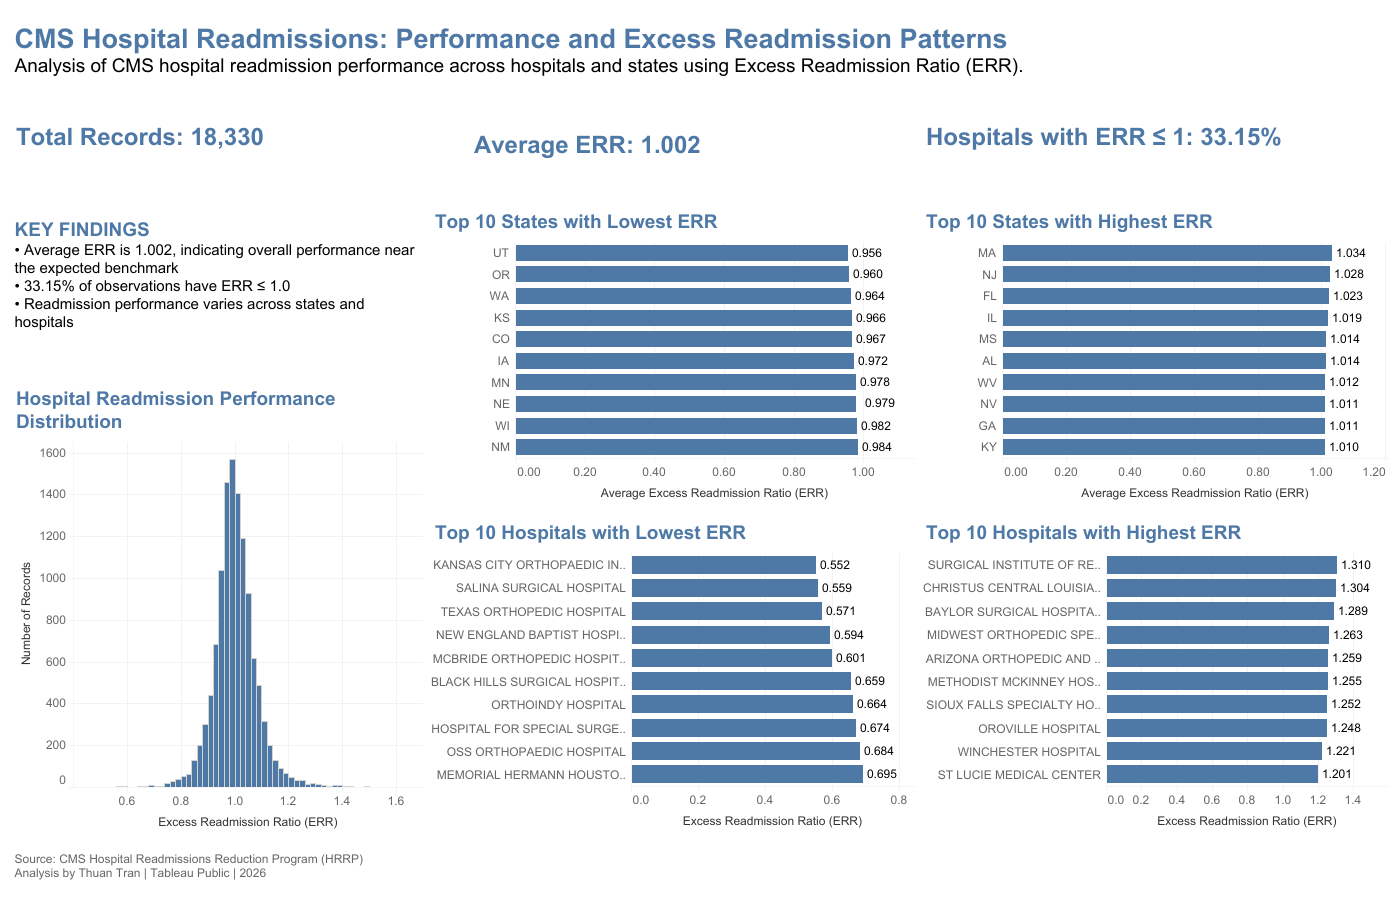

The dashboard page shown, as its layout file describes it:
{"tool":"tableau","page":{"name":"Hospital Readmissions Analysis ","canvas":[1400,900],"ordinal":0},"visuals":[{"type":"title","box":[8,8,1384,111]},{"type":"worksheet","title":"Records","mark":"Automatic","box":[8,119,458,81]},{"type":"worksheet","title":"Average ERR","mark":"Automatic","box":[466,119,452,81]},{"type":"worksheet","title":"Better Hospitals %","mark":"Automatic","box":[918,119,474,81]},{"type":"text","box":[8,200,419,177]},{"type":"worksheet","title":"Top 10 States with Lowest ERR","mark":"Automatic","rows":["state"],"cols":["avg_err"],"box":[427,200,491,311]},{"type":"worksheet","title":"Top 10 States with Highest ERR","mark":"Automatic","rows":["state"],"cols":["avg_err"],"box":[918,200,474,311]},{"type":"worksheet","title":"ERR Distribution","mark":"Automatic","rows":["hospital_readmissions_clean.csv_85DF480BFDB140CEA02DE97C21A6"],"cols":["Excess Readmission Ratio (bin)"],"box":[8,377,419,463]},{"type":"worksheet","title":"Top 10 Hospitals with Lowest ERR","mark":"Automatic","rows":["facility_name"],"cols":["excess_readmission_ratio"],"box":[427,511,491,329]},{"type":"worksheet","title":"Top 10 Hospitals with Highest ERR","mark":"Automatic","rows":["facility_name"],"cols":["excess_readmission_ratio"],"box":[918,511,474,329]},{"type":"text","box":[8,840,1384,52]}]}

Visuals, with their boxes in screenshot pixels (x1, y1, x2, y2), scaled from the page's 1400x900 canvas onto the 1399x899 screenshot:
title: BBox(8, 8, 1391, 119)
"Records" worksheet: BBox(8, 119, 466, 200)
"Average ERR" worksheet: BBox(466, 119, 917, 200)
"Better Hospitals %" worksheet: BBox(917, 119, 1391, 200)
text: BBox(8, 200, 427, 377)
"Top 10 States with Lowest ERR" worksheet: BBox(427, 200, 917, 510)
"Top 10 States with Highest ERR" worksheet: BBox(917, 200, 1391, 510)
"ERR Distribution" worksheet: BBox(8, 377, 427, 839)
"Top 10 Hospitals with Lowest ERR" worksheet: BBox(427, 510, 917, 839)
"Top 10 Hospitals with Highest ERR" worksheet: BBox(917, 510, 1391, 839)
text: BBox(8, 839, 1391, 891)
